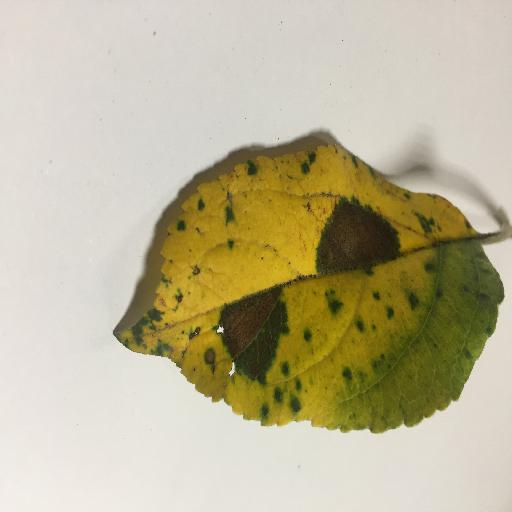Brown_Spot: (325, 218, 393, 262), (223, 314, 277, 350)
